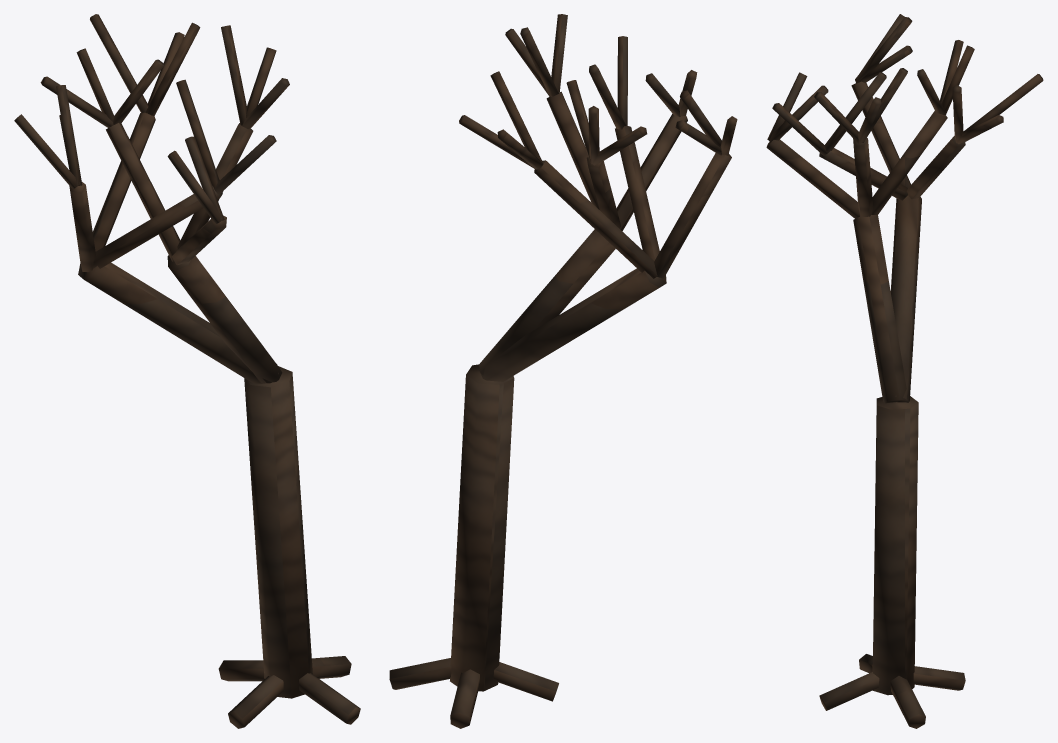
File: NT01_dead_tree_v5.glb
The picture shows the model from 3 angles, left to right: view 1: azimuth 30°, elevation 25°; view 2: azimuth 150°, elevation 25°; view 3: azimuth 270°, elevation 25°; orthographic projection. The views are drawn at different scales.
Parts seen in each view (by area): view 1: NT01_dead_tree_v5; view 2: NT01_dead_tree_v5; view 3: NT01_dead_tree_v5.
Boxes of the visible parts, left/top/right/bottom form: NT01_dead_tree_v5: left=14, top=14, right=360, bottom=728; NT01_dead_tree_v5: left=389, top=14, right=737, bottom=728; NT01_dead_tree_v5: left=766, top=14, right=1043, bottom=728.
Size of the model in its own units: 3.11 by 6 by 2.48.
1 material, 1 textured.
